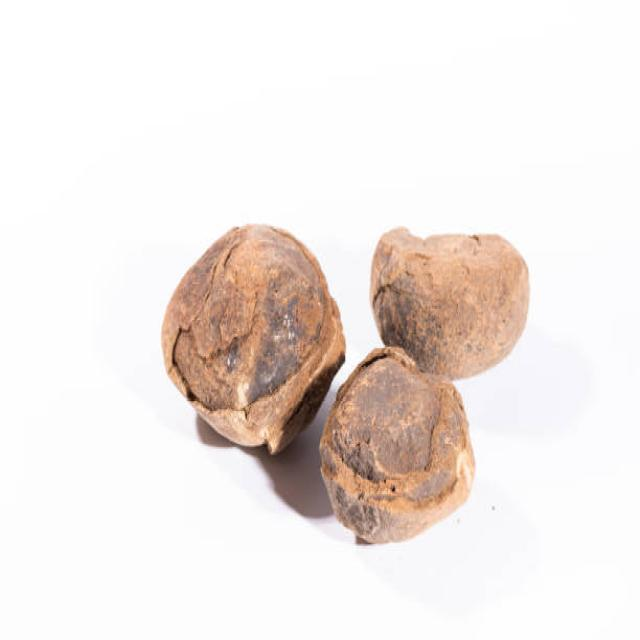Sedimentary: (156, 213, 537, 548)
